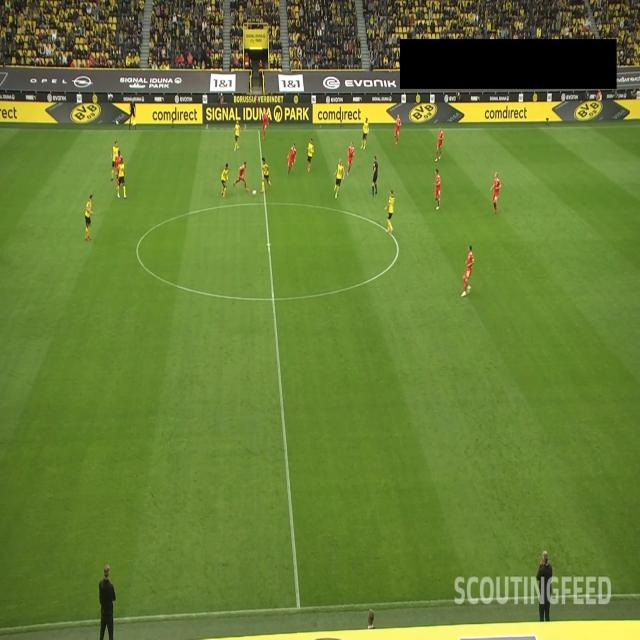ball: (252, 189, 257, 196)
